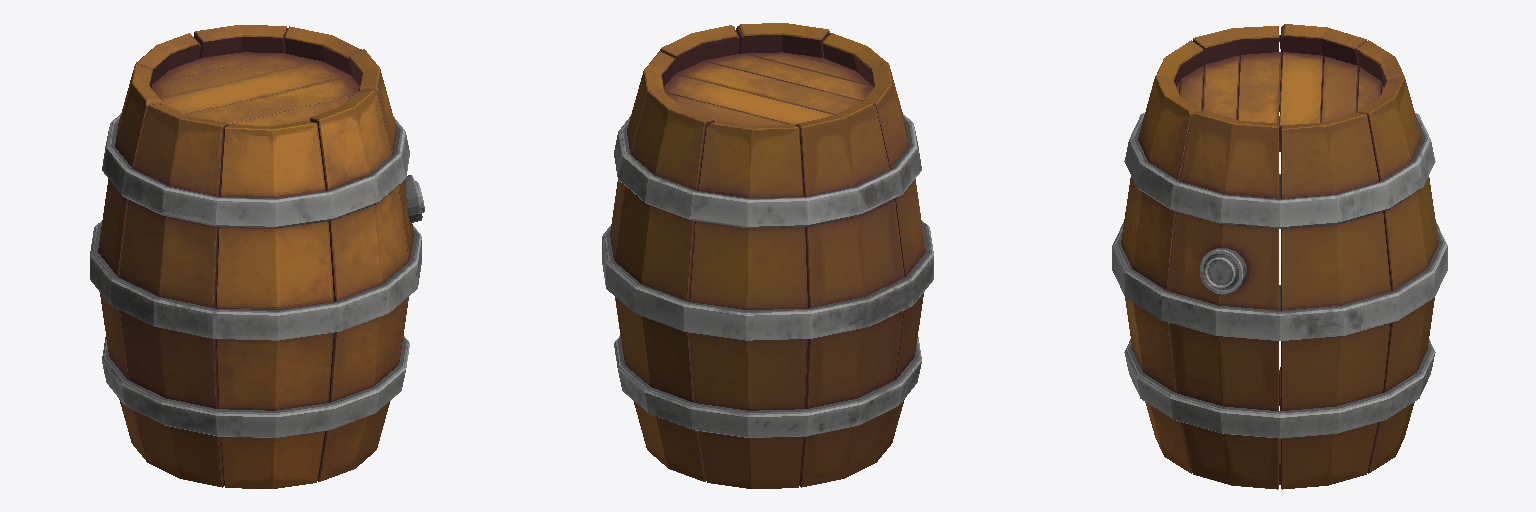
3 renders of one model, left to right at view 1: azimuth 30°, elevation 25°; view 2: azimuth 150°, elevation 25°; view 3: azimuth 270°, elevation 25°, orthographic.
Parts seen in each view (by area): view 1: Barrel2; view 2: Barrel2; view 3: Barrel2.
Boxes of the visible parts, x1,y1,x2,y2 form: Barrel2: [90, 25, 424, 488]; Barrel2: [602, 23, 933, 488]; Barrel2: [1112, 24, 1447, 489].
Bounding box in the file's own units: 1.01 × 1.21 × 1.01.
1 materials, 1 textured.